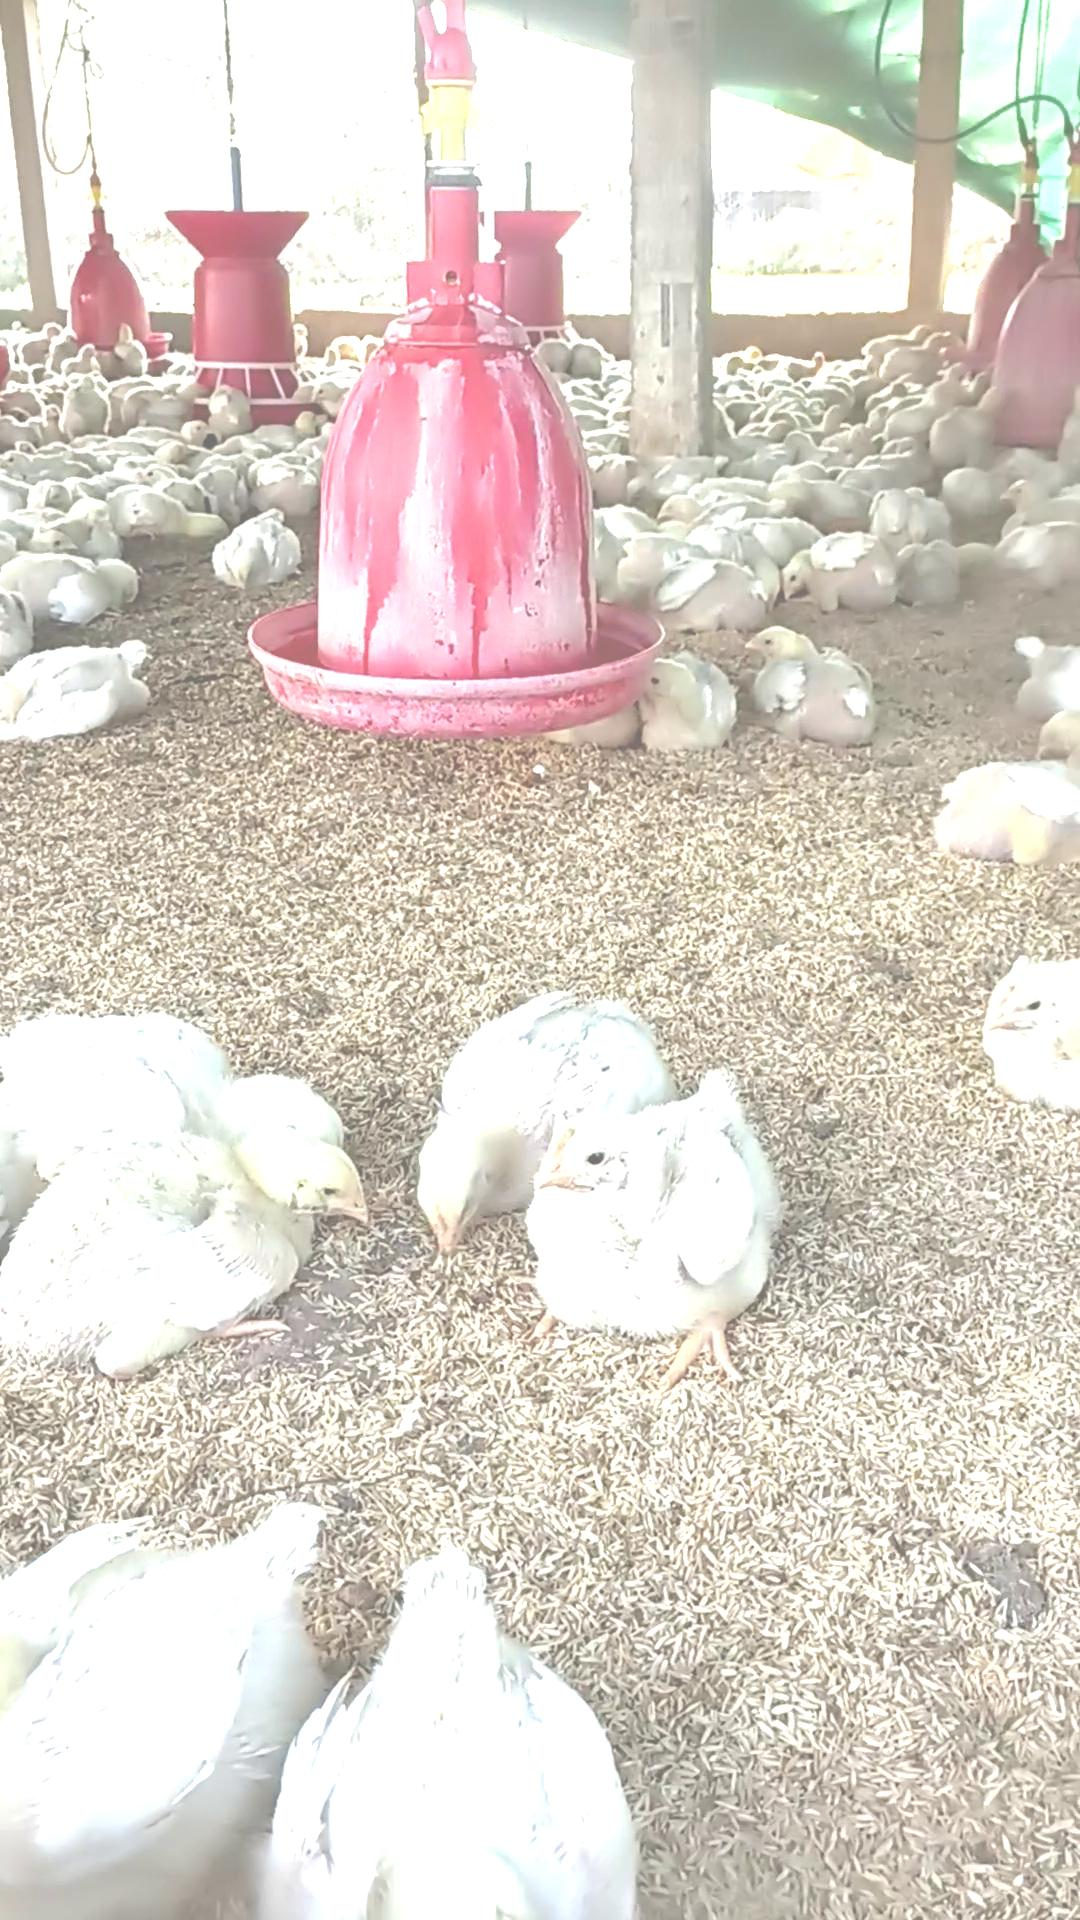Pollos: (1, 1120, 382, 1385), (533, 1064, 790, 1321), (413, 996, 526, 1261), (742, 621, 887, 750), (1, 640, 162, 740), (778, 533, 902, 609), (214, 508, 294, 593)
